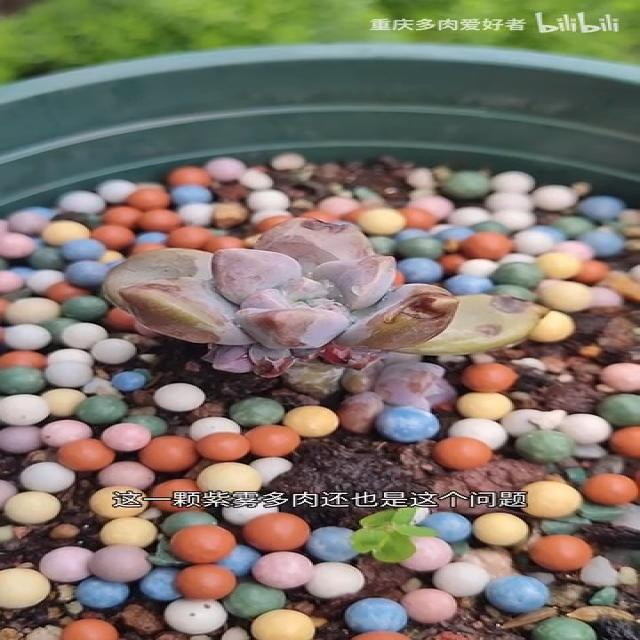-: (379, 292, 446, 328), (482, 294, 542, 316), (468, 324, 518, 342)
